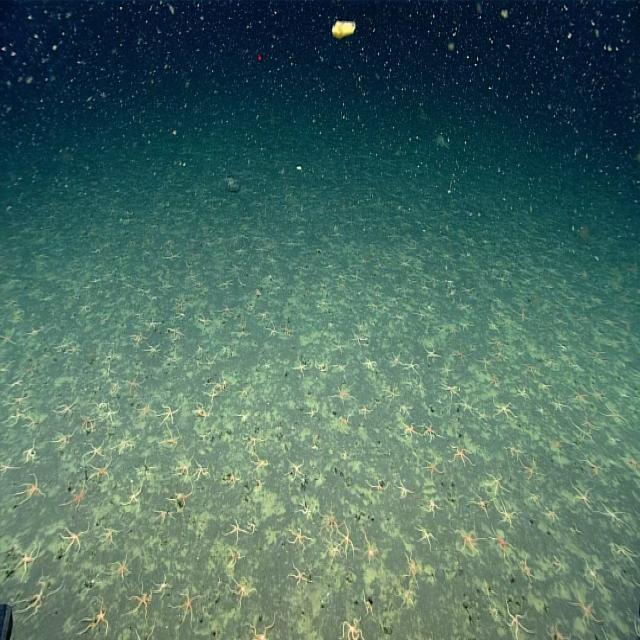brittle-stars: (18, 579, 55, 640), (600, 501, 633, 541), (176, 585, 208, 624), (15, 538, 43, 580), (502, 598, 528, 640), (84, 596, 108, 640), (488, 398, 520, 431), (578, 592, 605, 630), (18, 477, 44, 515), (571, 481, 598, 517), (54, 423, 78, 463), (457, 520, 482, 558), (336, 609, 366, 640), (63, 479, 85, 520), (166, 488, 192, 522), (605, 395, 630, 430), (62, 523, 89, 555), (245, 614, 278, 640), (128, 589, 153, 623), (52, 394, 81, 423), (487, 528, 516, 557), (422, 457, 446, 491), (222, 514, 250, 543), (446, 439, 471, 470), (338, 518, 356, 561), (287, 453, 309, 487), (605, 540, 640, 561), (483, 468, 511, 494), (320, 538, 345, 567), (114, 426, 139, 455), (404, 552, 423, 590), (126, 476, 146, 512), (515, 552, 537, 584), (244, 426, 270, 453), (288, 562, 311, 592), (229, 579, 250, 611), (86, 436, 109, 465), (159, 426, 181, 456), (393, 476, 413, 509), (206, 374, 230, 400), (160, 397, 184, 422), (290, 522, 310, 552), (190, 404, 214, 429), (323, 507, 340, 542), (86, 462, 115, 482), (468, 493, 493, 516), (414, 524, 439, 547), (503, 438, 526, 463), (584, 455, 609, 478), (364, 474, 388, 497), (494, 502, 519, 524), (420, 495, 442, 520), (518, 359, 540, 384), (24, 439, 38, 478), (584, 558, 602, 588), (99, 522, 118, 550), (222, 469, 245, 492), (116, 542, 128, 586), (248, 453, 272, 475), (124, 371, 146, 395), (150, 503, 168, 532), (521, 457, 539, 486), (10, 404, 36, 424), (361, 591, 377, 623), (173, 457, 193, 482), (442, 377, 462, 402), (493, 342, 512, 368), (582, 409, 600, 436), (450, 342, 470, 366), (192, 460, 212, 483), (420, 342, 440, 365), (402, 418, 420, 443), (474, 352, 494, 373), (460, 397, 482, 416), (295, 500, 317, 519), (221, 544, 238, 568), (368, 534, 380, 568), (250, 473, 270, 493), (544, 625, 570, 640), (156, 573, 172, 597), (337, 412, 357, 431), (422, 422, 440, 443), (102, 404, 121, 423), (553, 549, 565, 579), (404, 354, 422, 374), (332, 386, 351, 404), (545, 507, 564, 525), (137, 398, 155, 417), (303, 400, 320, 420), (553, 391, 566, 417), (574, 389, 590, 410), (145, 313, 161, 334), (293, 358, 308, 380), (333, 354, 348, 376), (355, 398, 372, 417), (148, 339, 162, 362), (0, 328, 16, 348), (84, 411, 96, 437), (392, 309, 406, 331), (359, 356, 377, 373), (166, 324, 185, 340), (196, 311, 212, 330), (97, 366, 116, 381), (526, 493, 543, 509), (388, 346, 402, 365), (414, 304, 426, 326), (166, 248, 182, 264), (130, 331, 145, 348), (236, 384, 252, 399), (247, 517, 260, 535), (78, 300, 93, 315), (266, 324, 280, 340), (218, 276, 232, 292), (221, 303, 234, 320), (314, 363, 328, 378), (164, 354, 179, 368), (368, 300, 382, 315), (257, 306, 270, 322), (352, 268, 364, 285), (386, 383, 397, 401), (518, 384, 532, 398), (351, 333, 364, 348), (280, 323, 295, 335), (333, 340, 345, 354), (111, 382, 121, 392), (134, 308, 143, 318)
